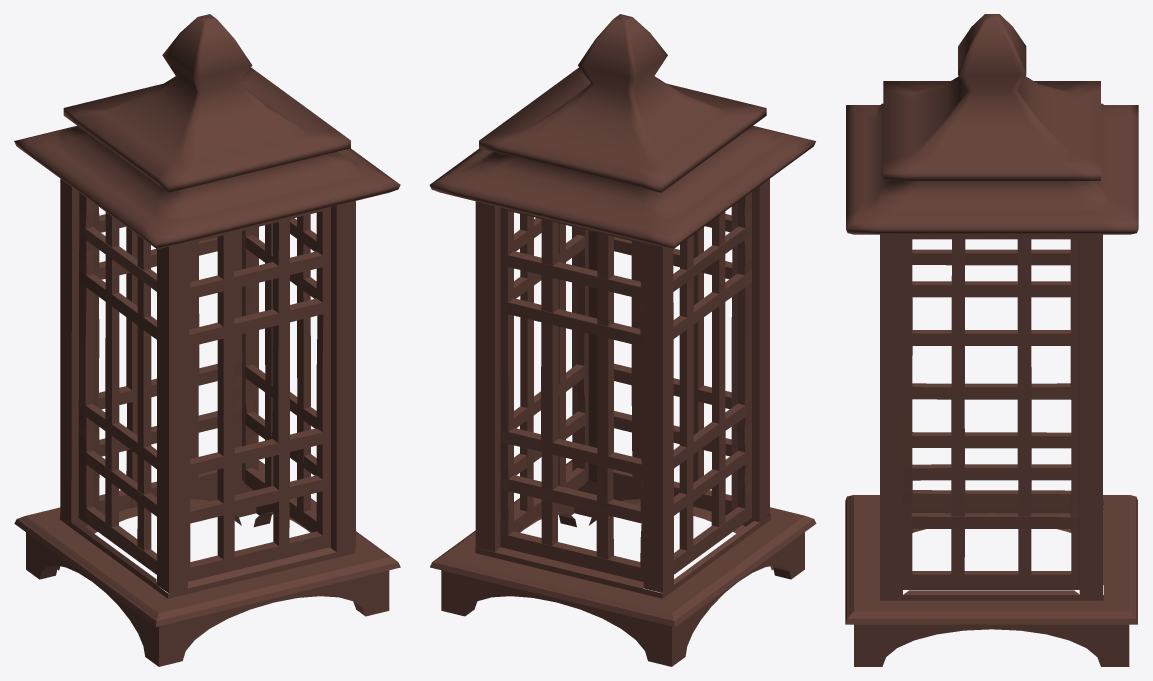
The model's file is Lamp.fbx.
3 views of the same model, side by side, from view 1: azimuth 30°, elevation 25°; view 2: azimuth 150°, elevation 25°; view 3: azimuth 270°, elevation 25° (orthographic). The views are drawn at different scales.
Visible parts, largest first — view 1: Circle.025; view 2: Circle.025; view 3: Circle.025.
Boxes of the visible parts, x1,y1,x2,y2 form: Circle.025: (14,14,400,666); Circle.025: (429,14,816,666); Circle.025: (845,14,1138,666).
Size of the model in its own units: 1.57 by 3.5 by 1.57.
